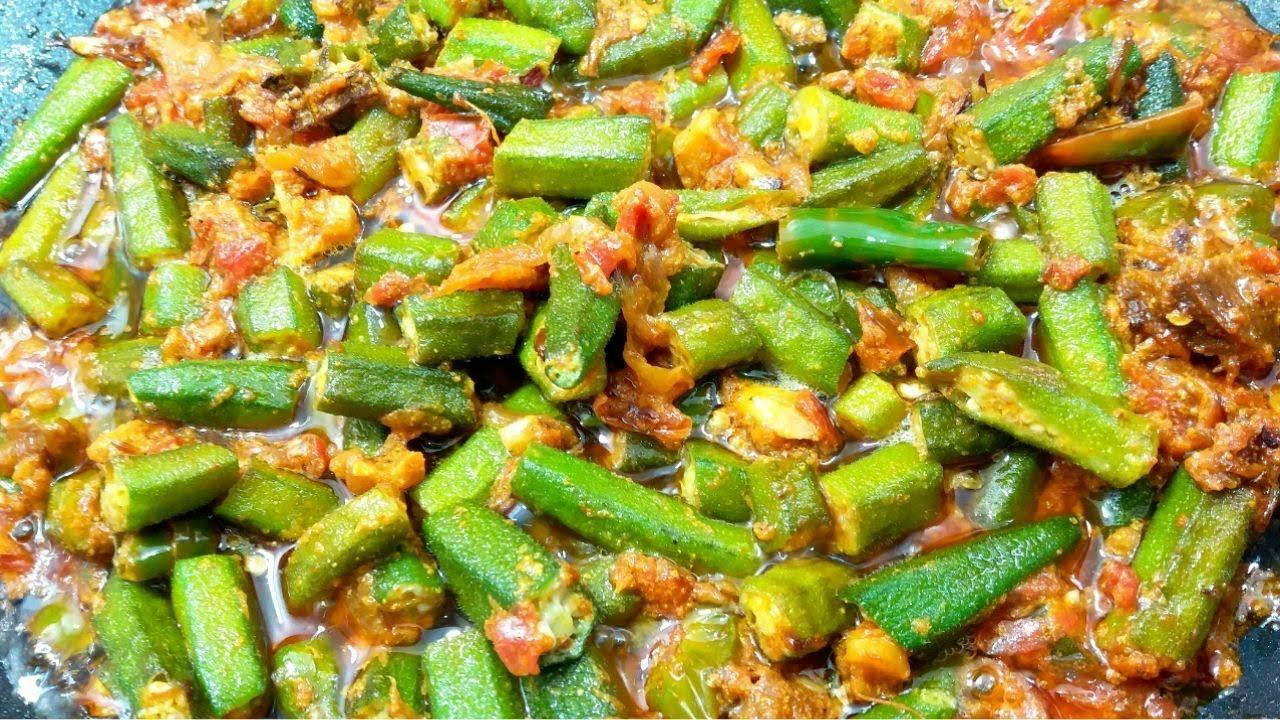BhindiMasala: (0, 2, 1280, 720)
